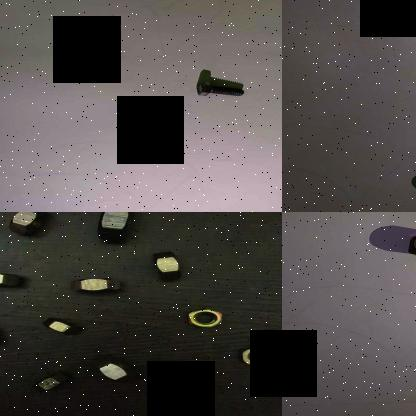Bolts: (193, 80, 245, 100)
NUTS: (96, 212, 136, 250), (3, 212, 55, 239), (34, 314, 89, 338), (68, 273, 126, 295), (95, 354, 135, 384), (22, 372, 76, 394), (235, 344, 282, 369), (152, 250, 185, 284), (182, 305, 224, 331), (0, 269, 25, 290)
